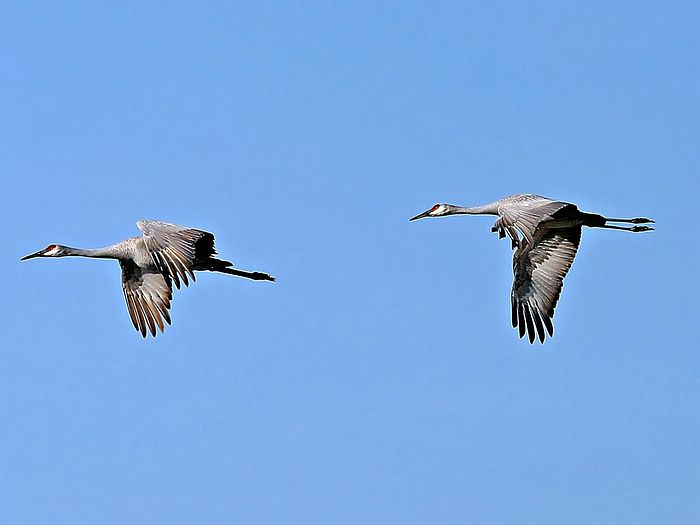bird: (407, 191, 657, 347), (15, 215, 279, 337)
